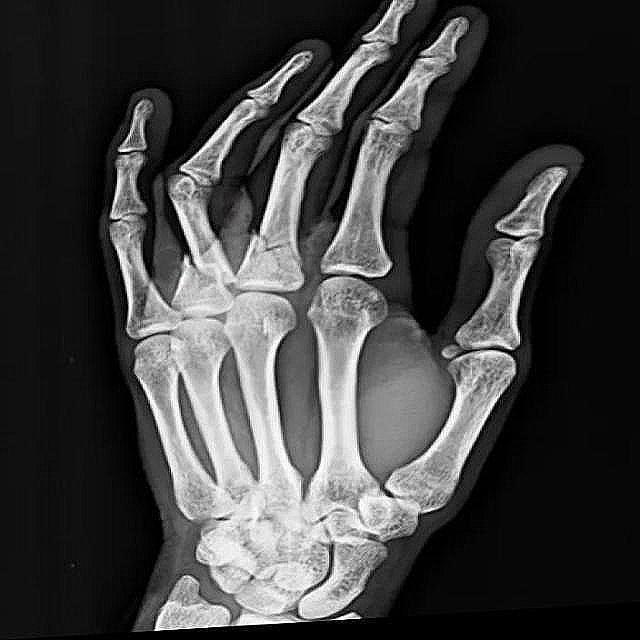bone: (238, 214, 310, 278), (174, 233, 230, 300), (115, 272, 172, 330)
